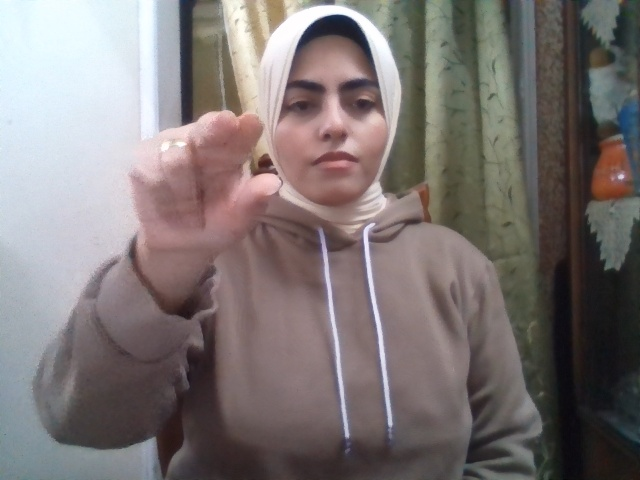no: (129, 110, 281, 257)
